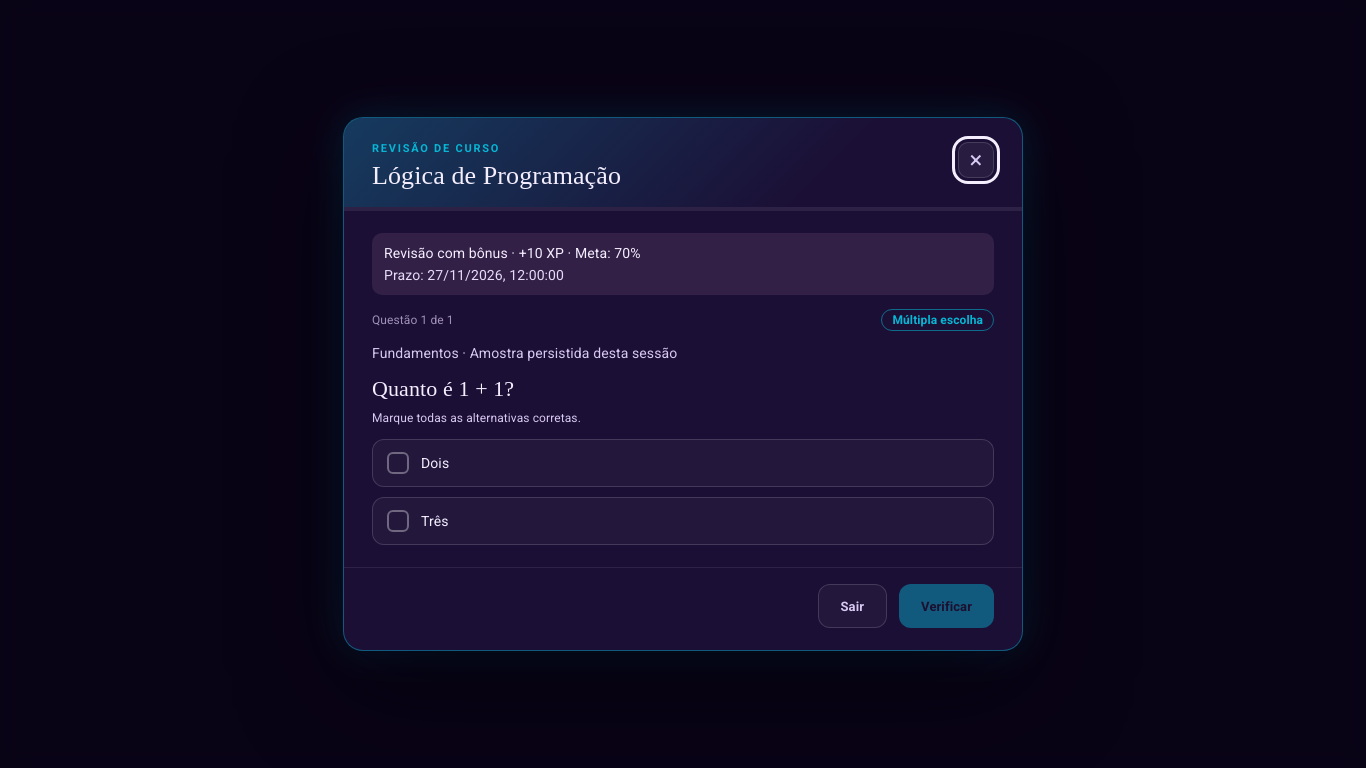
Test: LessonModal em revisão de curso › usa a resposta e o resultado oficial e separa revisão de conclusão de aula
The image size is (1366, 768).
Expected: the heading "Quanto é 1 + 1?" is shown, [372,376,514,401]
Click the checkbox labelled "Dois". click: (398, 463)
box: [372,439,994,487]
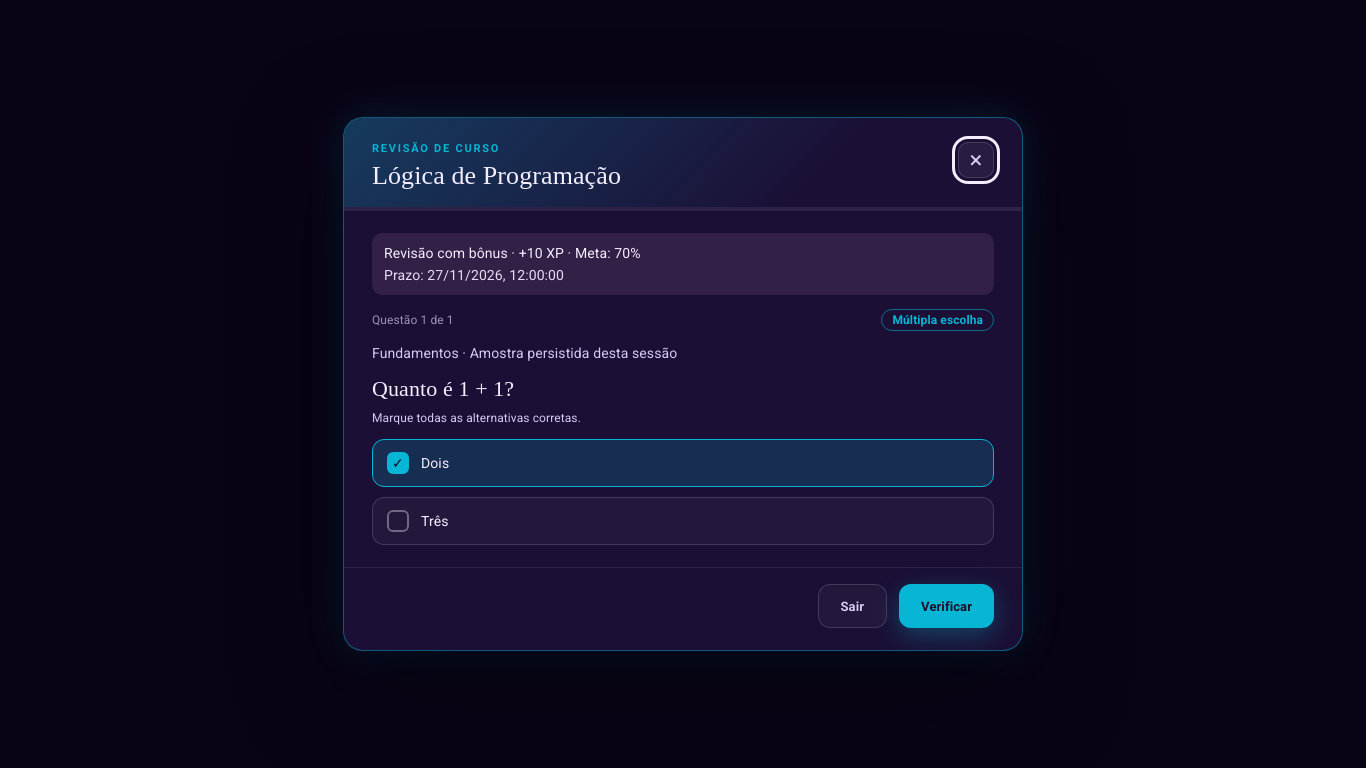
Click the button "Verificar". click: (947, 606)
box: [899,584,994,628]
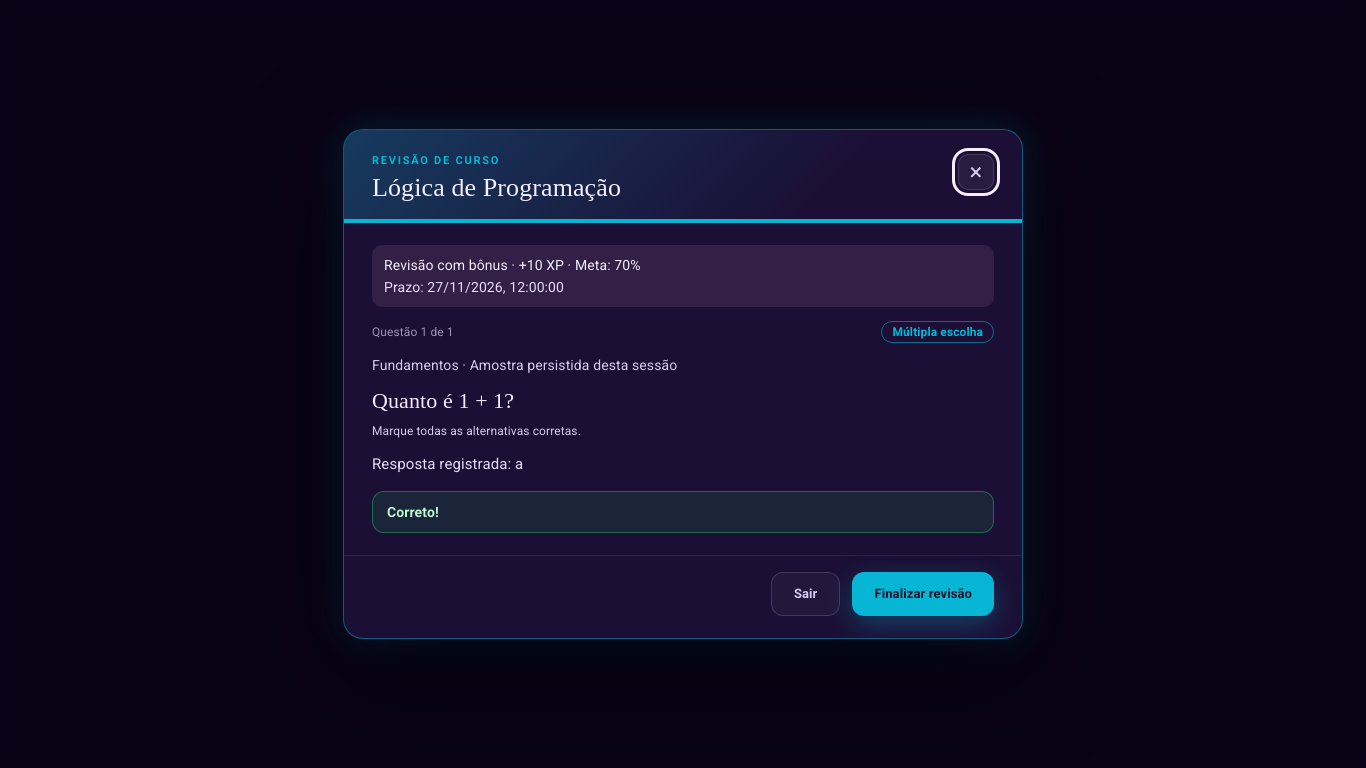
Expected: the text "Correto!" is shown, [387,504,439,520]
Click the button "Finalizar revisão". click: (923, 594)
box: [852,572,994,616]
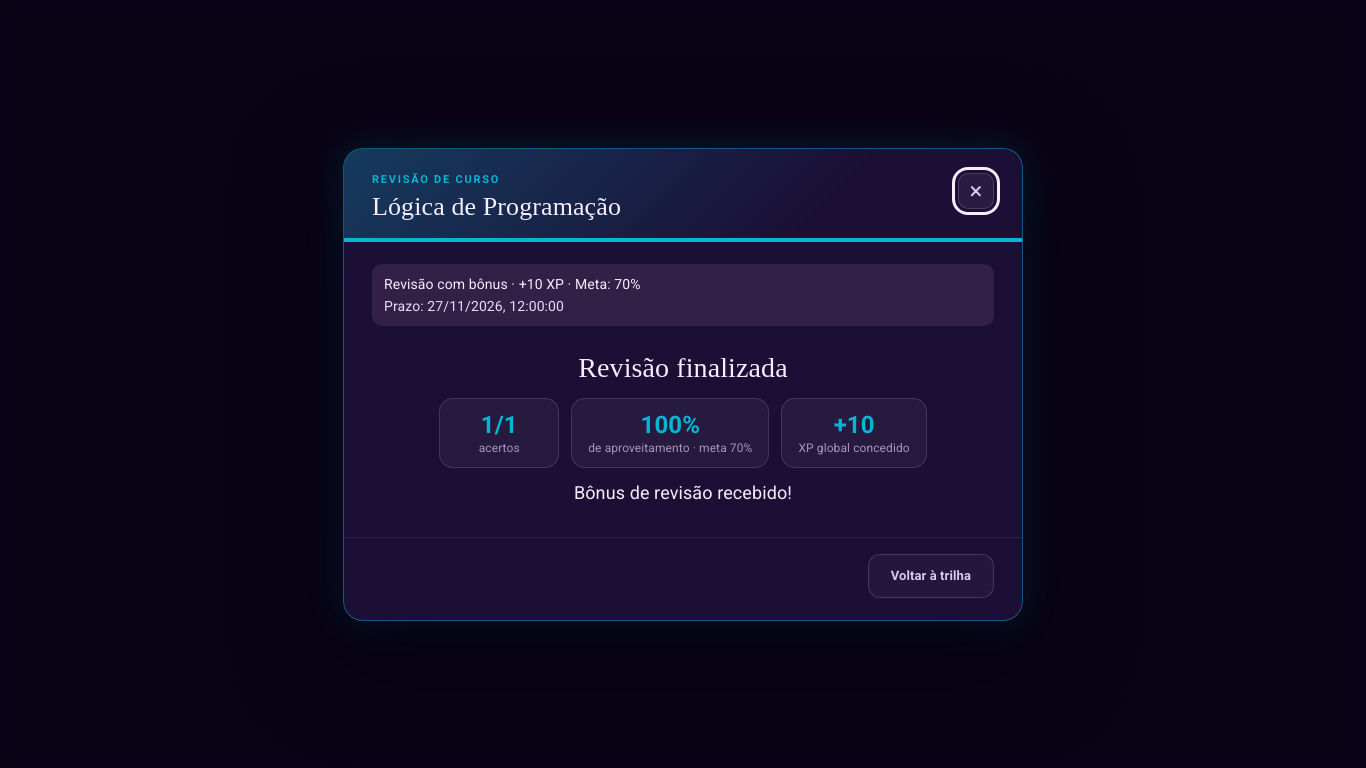
Expected: the text "Bônus de revisão recebido!" is shown, [574,482,792,502]
Expected: the text "+10" is shown, [834,410,874,438]
